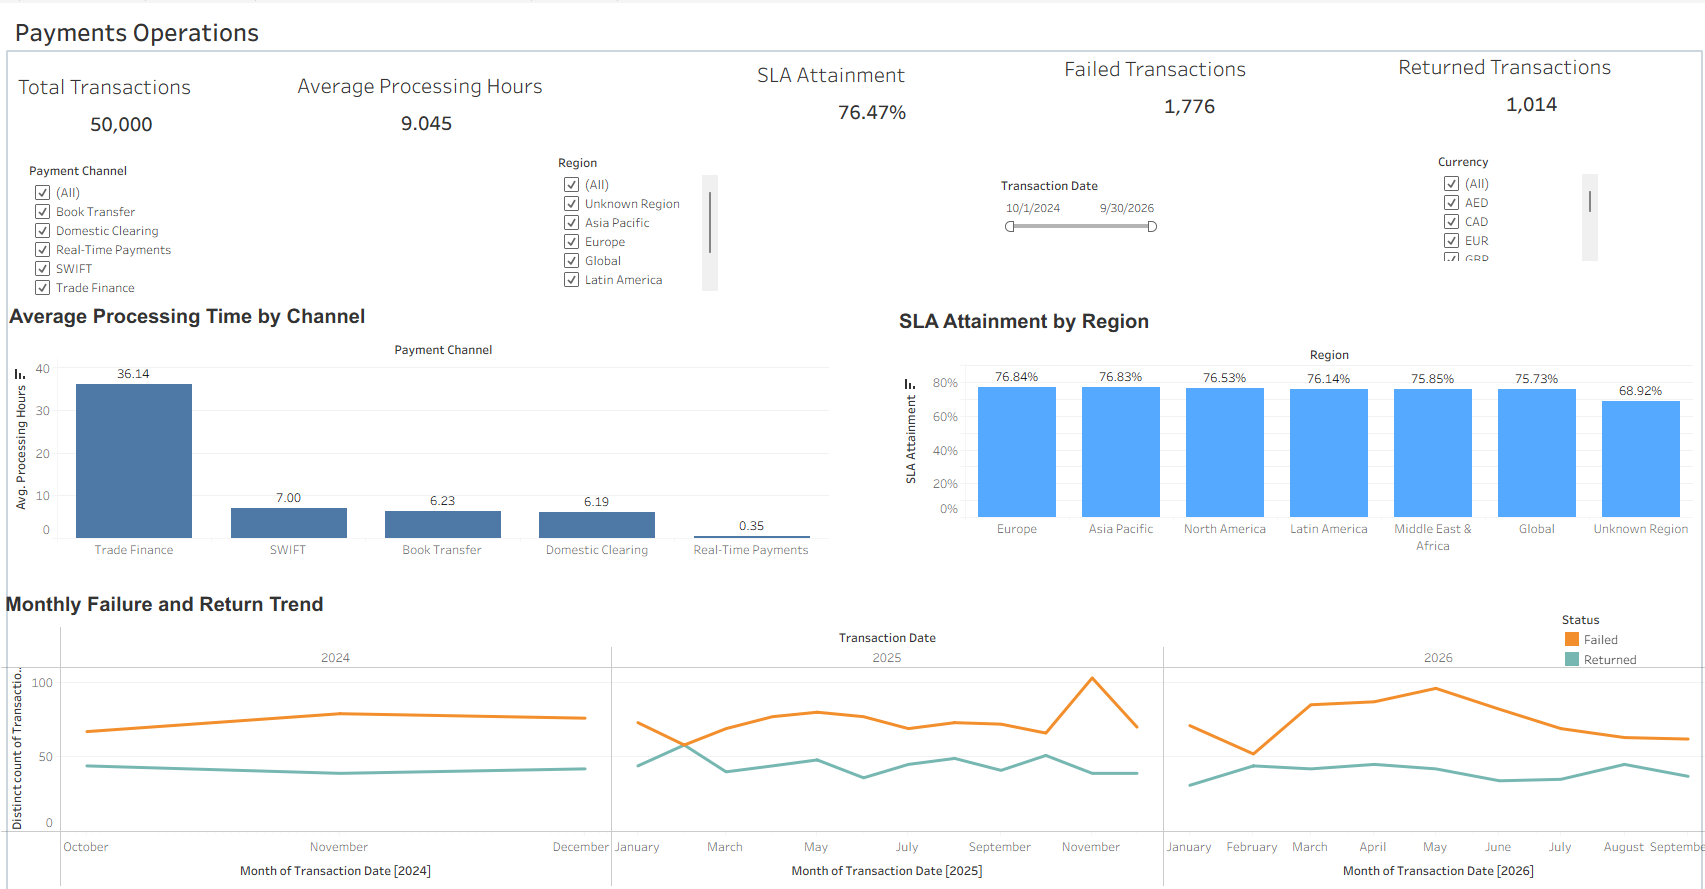

Layout of this report page (visuals, bound fields, positions):
{"tool":"tableau","page":{"name":"Payments Operations Dashboard","canvas":[1000,1000],"units":"permille","ordinal":2},"visuals":[{"type":"title","box":[4.7,8.9,990.6,45.8]},{"type":"worksheet","title":"Returned Transactions","mark":"Automatic","box":[815.7,50.2,162.1,90.4]},{"type":"worksheet","title":"Failed Transactions","mark":"Automatic","box":[620.2,52.5,152.1,89.3]},{"type":"worksheet","title":"SLA Attainment","mark":"Automatic","box":[440.6,59.1,139.8,93.8]},{"type":"worksheet","title":"Average Processing Hours","mark":"Automatic","box":[171.5,71.4,156.8,83.7]},{"type":"worksheet","title":"KPI – Total Transactions","mark":"Automatic","box":[8.2,72.5,125.8,77]},{"type":"filter","title":"Average Processing Time by Channel","param":"[federated.0pb43j907aj0ad1bkzezx1xp1x8t].[none:Currency:nk]","box":[841.4,167.4,93.6,120.5]},{"type":"filter","title":"Average Processing Time by Channel","param":"[federated.0pb43j907aj0ad1bkzezx1xp1x8t].[none:Region:nk]","box":[326.5,168.5,93.6,152.9]},{"type":"filter","title":"Average Processing Time by Channel","param":"[federated.0pb43j907aj0ad1bkzezx1xp1x8t].[none:PaymentChannel:nk]","box":[17,177.5,93.6,154]},{"type":"filter","title":"Average Processing Time by Channel","param":"[federated.0pb43j907aj0ad1bkzezx1xp1x8t].[none:TransactionDate:qk]","box":[585.7,194.2,93.6,68.1]},{"type":"worksheet","title":"Average Processing Time by Channel","mark":"Automatic","rows":["ProcessingHours"],"cols":["PaymentChannel"],"box":[2.9,332.6,482.2,309.2]},{"type":"worksheet","title":"SLA Attainment by Region","mark":"Bar","rows":["Calculation_0412106123812865"],"cols":["Region"],"box":[523.7,338.2,466.9,280.1]},{"type":"worksheet","title":"Monthly Failure and Return Trend","mark":"Automatic","rows":["TransactionID"],"cols":["TransactionDate","TransactionDate"],"box":[0.6,654,1002.9,332.6]},{"type":"legend","title":"Monthly Failure and Return Trend","param":"[federated.0pb43j907aj0ad1bkzezx1xp1x8t].[none:Status:nk]","box":[914,678.6,81.9,64.7]}]}

Visuals, with their boxes on the dashboard's canvas, which has no fixed pixel size, in thousandths of its width and height (x1, y1, x2, y2). These are canvas units, not pixel positions in the 1705x889 screenshot, which may show the page scaled, cropped or inside an application window:
title: pyautogui.locateOnScreen(5, 9, 995, 55)
"Returned Transactions" worksheet: pyautogui.locateOnScreen(816, 50, 978, 141)
"Failed Transactions" worksheet: pyautogui.locateOnScreen(620, 52, 772, 142)
"SLA Attainment" worksheet: pyautogui.locateOnScreen(441, 59, 580, 153)
"Average Processing Hours" worksheet: pyautogui.locateOnScreen(172, 71, 328, 155)
"KPI – Total Transactions" worksheet: pyautogui.locateOnScreen(8, 72, 134, 150)
"Average Processing Time by Channel" filter: pyautogui.locateOnScreen(841, 167, 935, 288)
"Average Processing Time by Channel" filter: pyautogui.locateOnScreen(326, 168, 420, 321)
"Average Processing Time by Channel" filter: pyautogui.locateOnScreen(17, 178, 111, 332)
"Average Processing Time by Channel" filter: pyautogui.locateOnScreen(586, 194, 679, 262)
"Average Processing Time by Channel" worksheet: pyautogui.locateOnScreen(3, 333, 485, 642)
"SLA Attainment by Region" worksheet (Bar marks): pyautogui.locateOnScreen(524, 338, 991, 618)
"Monthly Failure and Return Trend" worksheet: pyautogui.locateOnScreen(1, 654, 1004, 987)
"Monthly Failure and Return Trend" legend: pyautogui.locateOnScreen(914, 679, 996, 743)
